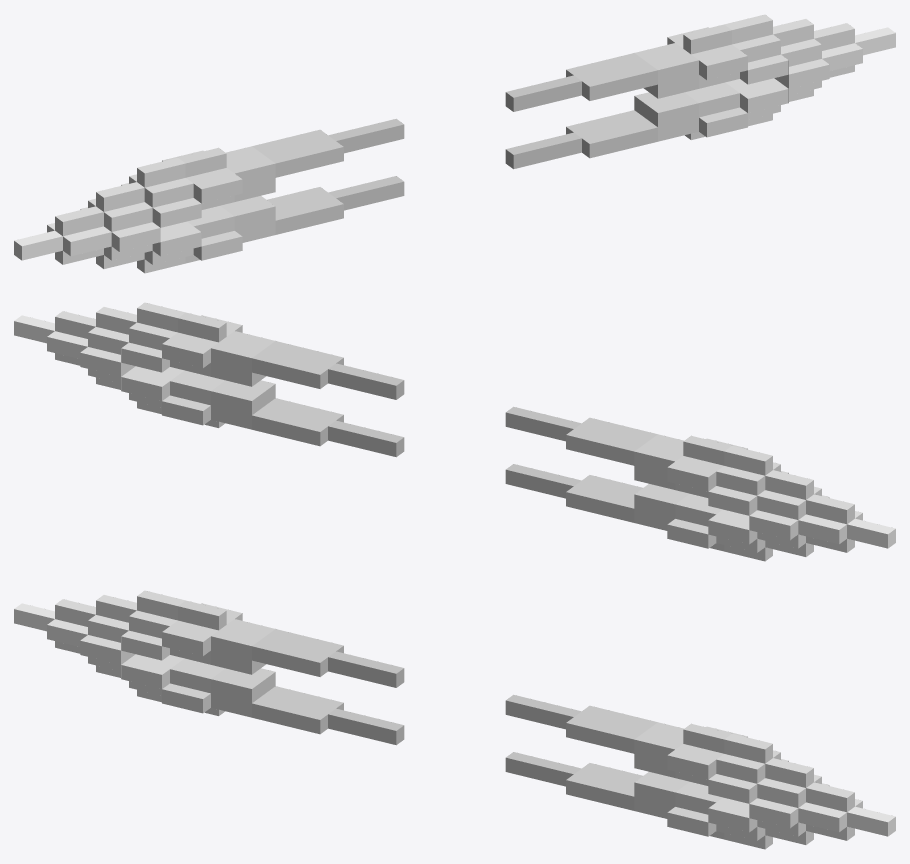
File: Samurai Basic.obj
3 views of the same model, one above another, from view 1: azimuth 30°, elevation 25°; view 2: azimuth 150°, elevation 25°; view 3: azimuth 330°, elevation 25° (orthographic).
Parts seen in each view (by area): view 1: Samurai Basic; view 2: Samurai Basic; view 3: Samurai Basic.
Boxes of the visible parts, x1,y1,x2,y2 form: Samurai Basic: (14,14,895,273); Samurai Basic: (14,302,895,561); Samurai Basic: (14,590,895,849).
Size of the model in its own units: 64 by 7 by 5.
1 material, 1 textured.
